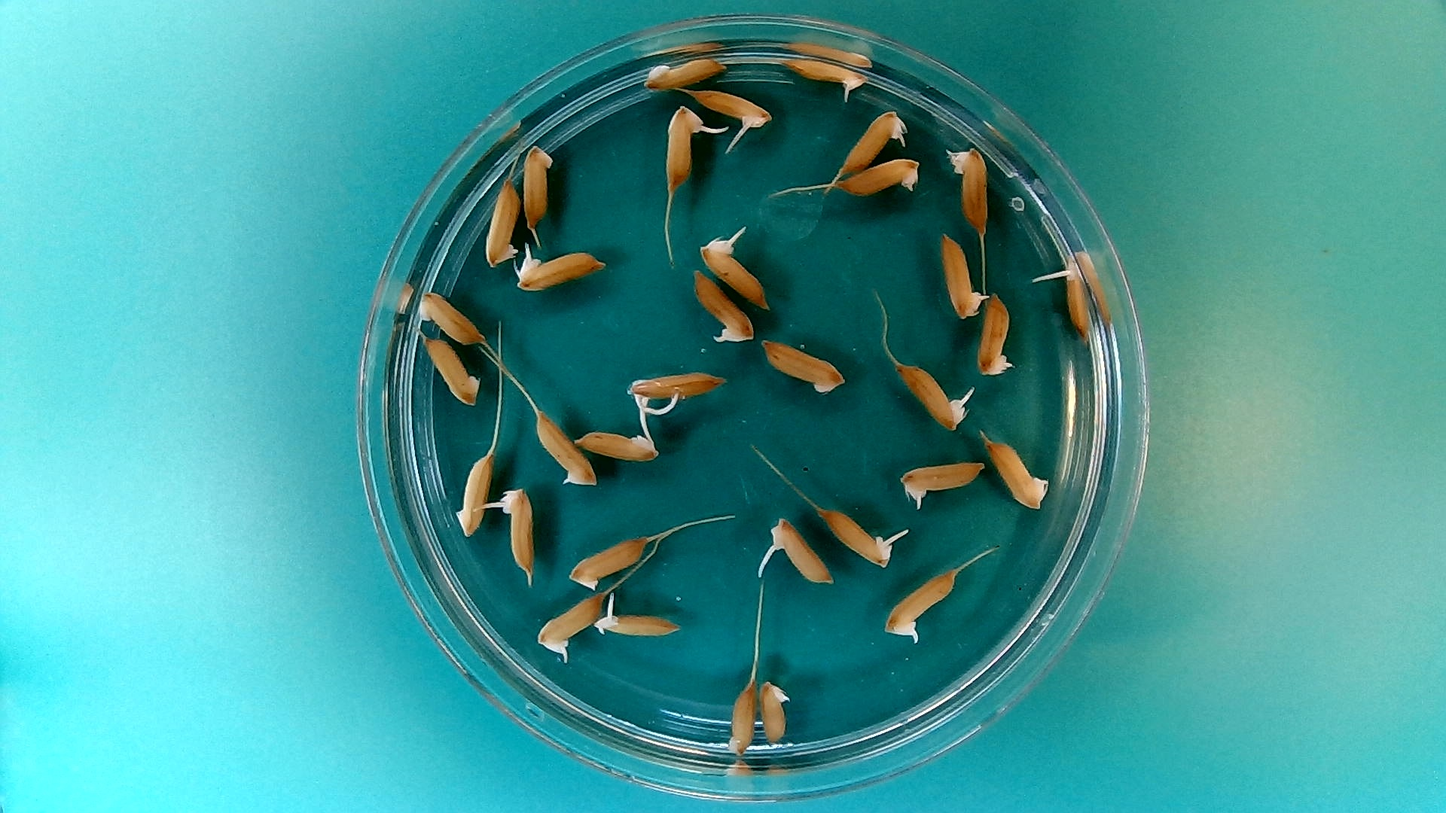no: (531, 406, 599, 490), (757, 335, 848, 396), (981, 433, 1051, 512), (419, 331, 481, 407), (944, 141, 993, 234), (571, 531, 651, 587), (413, 289, 487, 349), (839, 154, 923, 199), (483, 174, 522, 269), (640, 51, 729, 92), (520, 143, 557, 236), (455, 453, 495, 537), (570, 428, 660, 463), (722, 679, 758, 757), (758, 677, 792, 743)
yes: (889, 357, 974, 433), (700, 238, 773, 309), (883, 570, 958, 639), (690, 267, 755, 346), (838, 105, 911, 174), (817, 504, 892, 567), (937, 229, 987, 319), (772, 519, 835, 588), (538, 591, 608, 653), (900, 457, 989, 505), (782, 53, 869, 99), (659, 104, 703, 193), (514, 249, 606, 291), (976, 292, 1017, 380), (691, 85, 770, 130), (499, 488, 538, 572), (625, 372, 721, 404), (1057, 254, 1094, 336), (593, 610, 678, 639)
